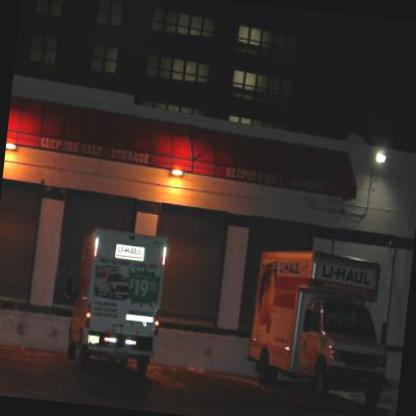truck: (244, 243, 400, 408), (64, 228, 175, 378)
